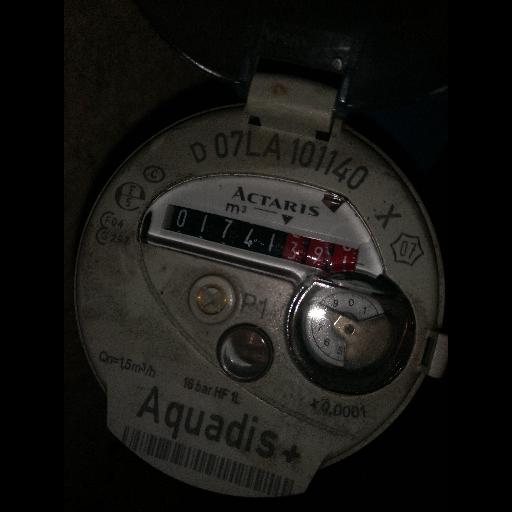0: (169, 205, 199, 236)
1: (329, 244, 360, 279), (192, 211, 220, 242), (260, 228, 288, 259)
3: (281, 233, 311, 266)
4: (238, 222, 266, 253)
7: (214, 214, 245, 248)
9: (305, 239, 336, 272)
border_water_meter_number: (161, 194, 365, 287)
